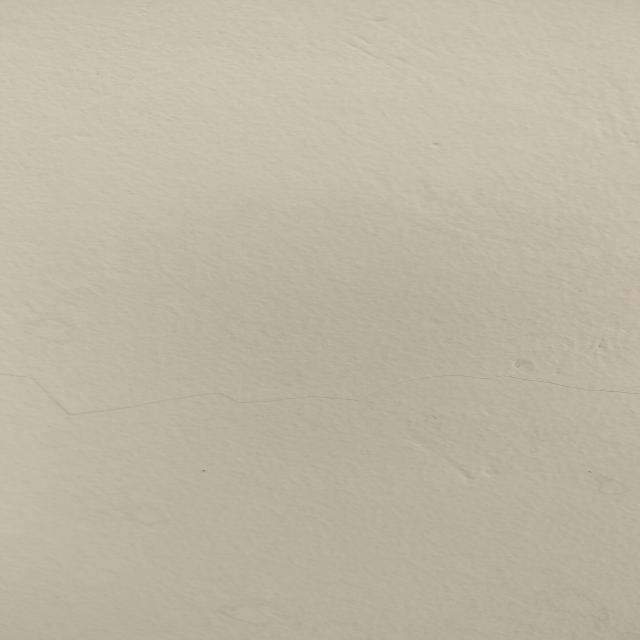Crack: (0, 368, 640, 419)
